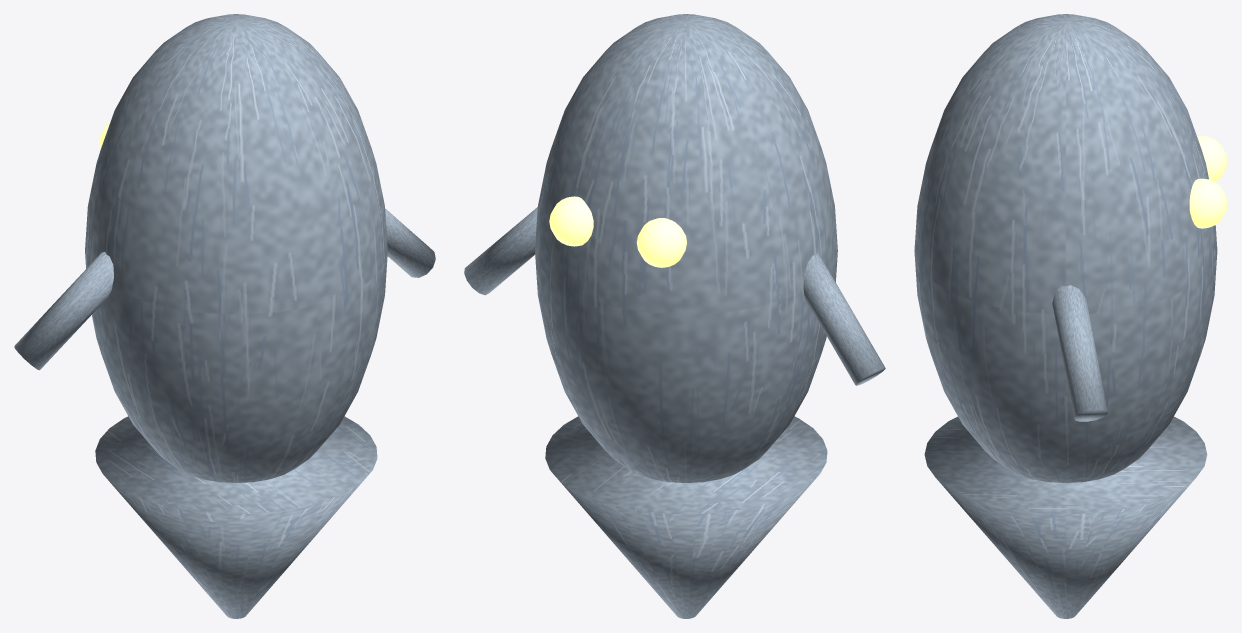
File: bean-nighe.glb
3 views of the same model, side by side, from view 1: azimuth 30°, elevation 25°; view 2: azimuth 150°, elevation 25°; view 3: azimuth 270°, elevation 25° (orthographic).
Parts seen in each view (by area): view 1: Body, Tail, Arm, Arm.001; view 2: Body, Tail, Arm, Arm.001, Eye, Eye.001; view 3: Body, Tail, Arm.001, Eye.001, Eye.
Boxes of the visible parts, bbox=[...] form: Body: bbox=[85, 14, 387, 482]; Tail: bbox=[95, 416, 377, 618]; Arm: bbox=[14, 252, 113, 370]; Arm.001: bbox=[385, 208, 435, 277]; Body: bbox=[535, 14, 837, 482]; Tail: bbox=[545, 416, 827, 618]; Arm: bbox=[803, 253, 885, 385]; Arm.001: bbox=[464, 207, 537, 295]; Eye: bbox=[636, 218, 686, 267]; Eye.001: bbox=[549, 196, 593, 246]; Body: bbox=[914, 14, 1217, 482]; Tail: bbox=[924, 416, 1207, 618]; Arm.001: bbox=[1052, 285, 1108, 421]; Eye.001: bbox=[1189, 178, 1227, 228]; Eye: bbox=[1197, 136, 1227, 181].
Bounding box in the file's own units: 0.7342 × 1 × 0.4788.
Materials: 2 (1 with a texture image).
